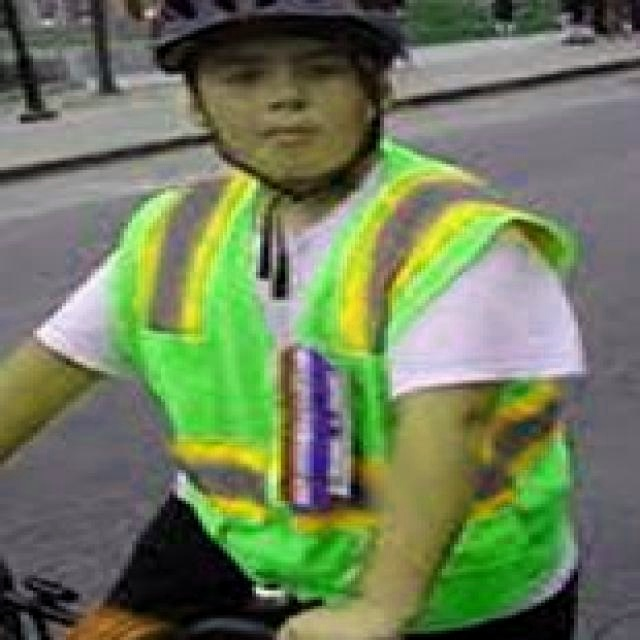Con_Chaleco: (120, 156, 588, 611)
